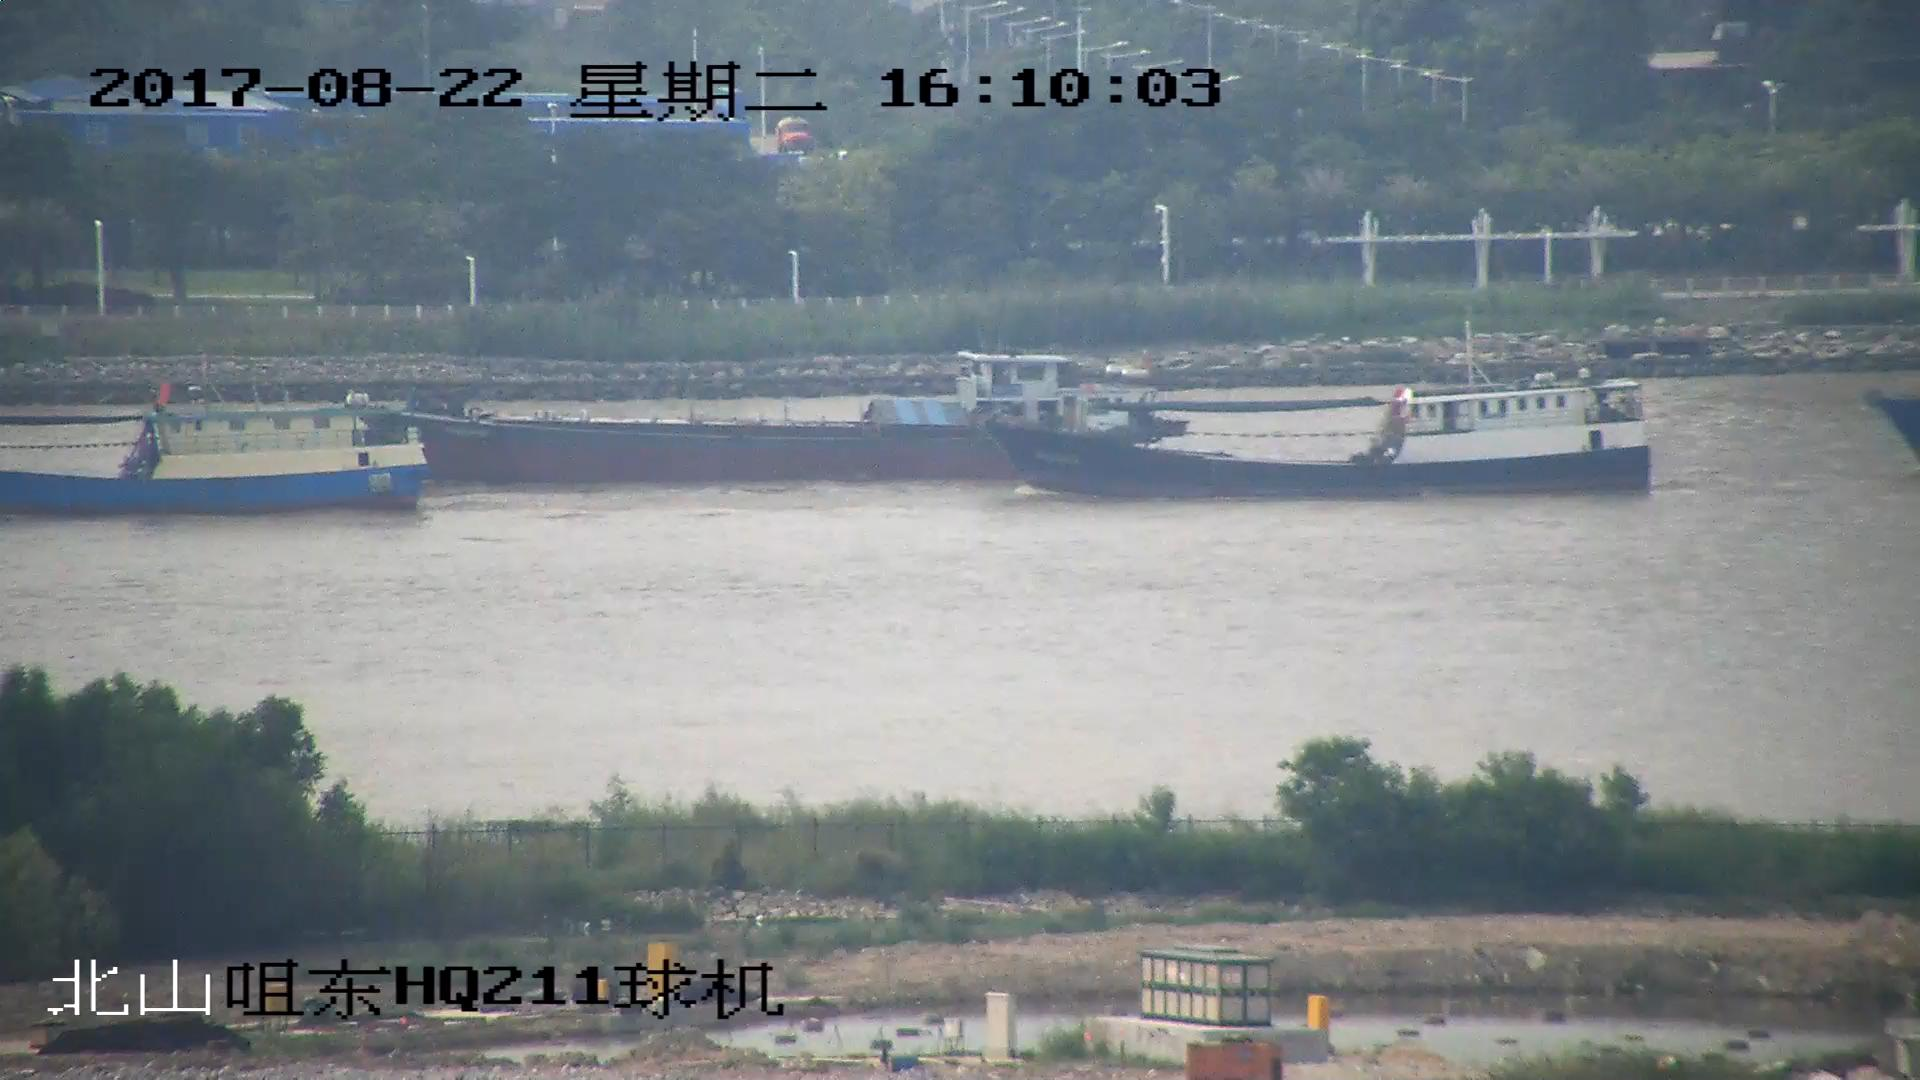bulk cargo carrier: (391, 359, 1189, 476)
fishing boat: (1004, 371, 1646, 499), (1, 391, 433, 515)
